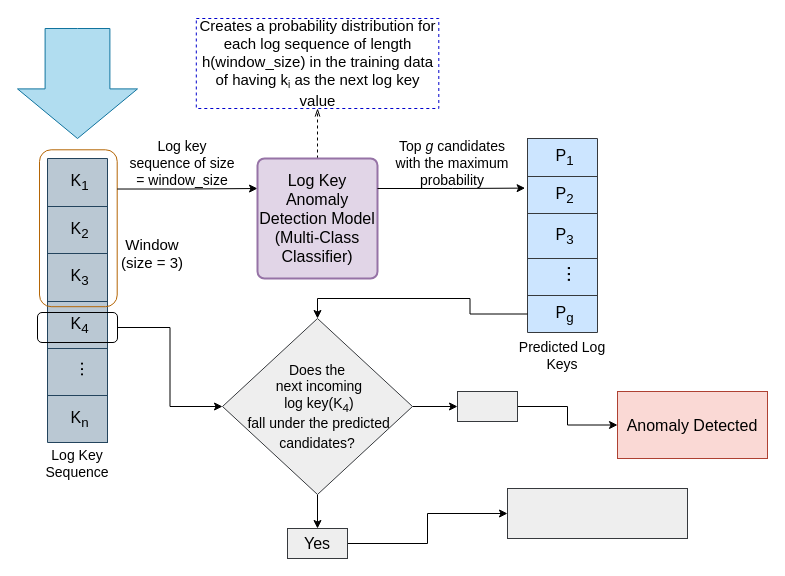
Image size: 785x576. Some labels were removed from this diagram. The centre of each missing label's shape, as x and y in pixels:
"Log Parser" belongs at point (77, 83).
"Move onto the next log key window" belongs at point (597, 513).
"No" belongs at point (487, 406).
